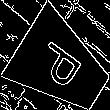P_SE: (33, 37, 91, 95)
